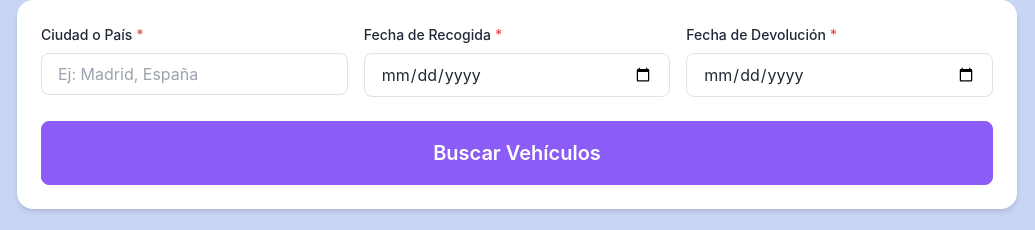
Test: SearchForm › debe mostrar sugerencias de países/ciudades al escribir
Type "Mad" into the field labelled "Ciudad o País*" at (194, 74), box [41, 53, 348, 95]
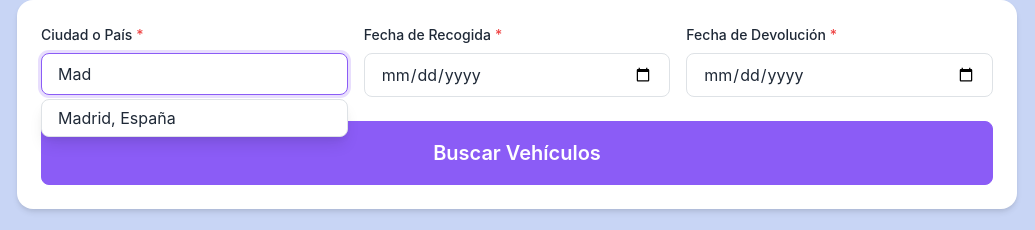
Now the list is shown, box [41, 99, 348, 137]
Now the option "Madrid, España" is shown, box [42, 100, 347, 136]
